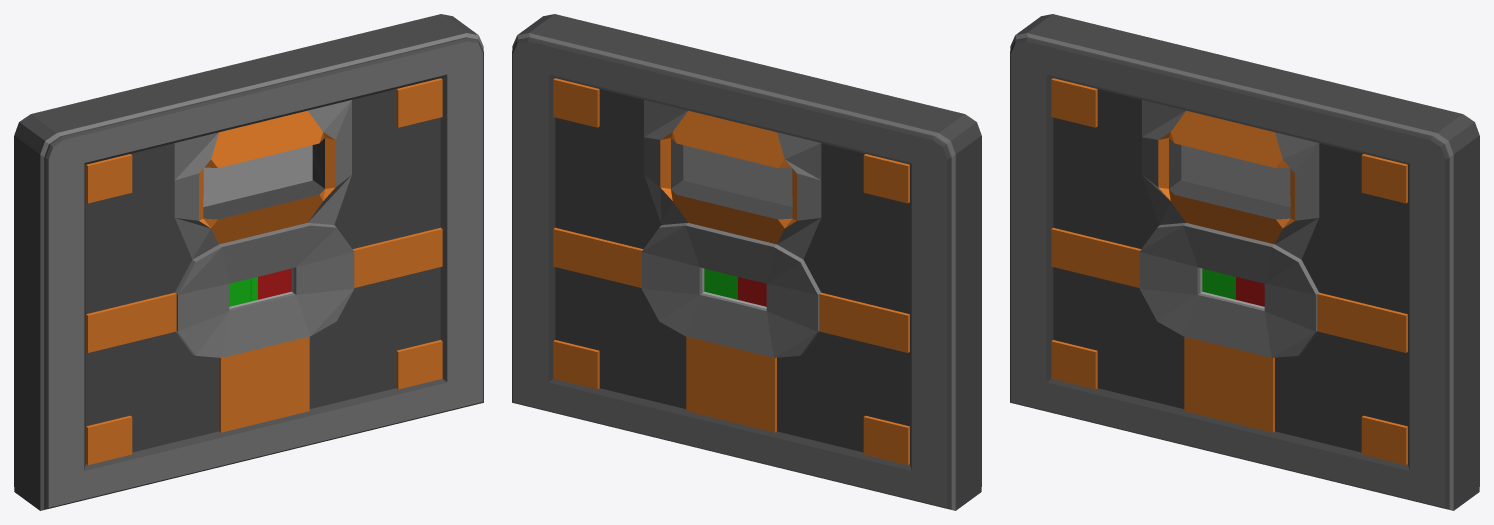
File: DoorCompleteFBX.fbx
3 views of the same model, side by side, from view 1: azimuth 30°, elevation 25°; view 2: azimuth 150°, elevation 25°; view 3: azimuth 330°, elevation 25° (orthographic).
Parts seen in each view (by area): view 1: pCube1; view 2: pCube1; view 3: pCube1.
Boxes of the visible parts, bbox=[...] form: pCube1: bbox=[14, 14, 483, 510]; pCube1: bbox=[512, 14, 981, 510]; pCube1: bbox=[1010, 14, 1479, 510].
Size of the model in its own units: 8.88 by 7.16 by 1.37.
